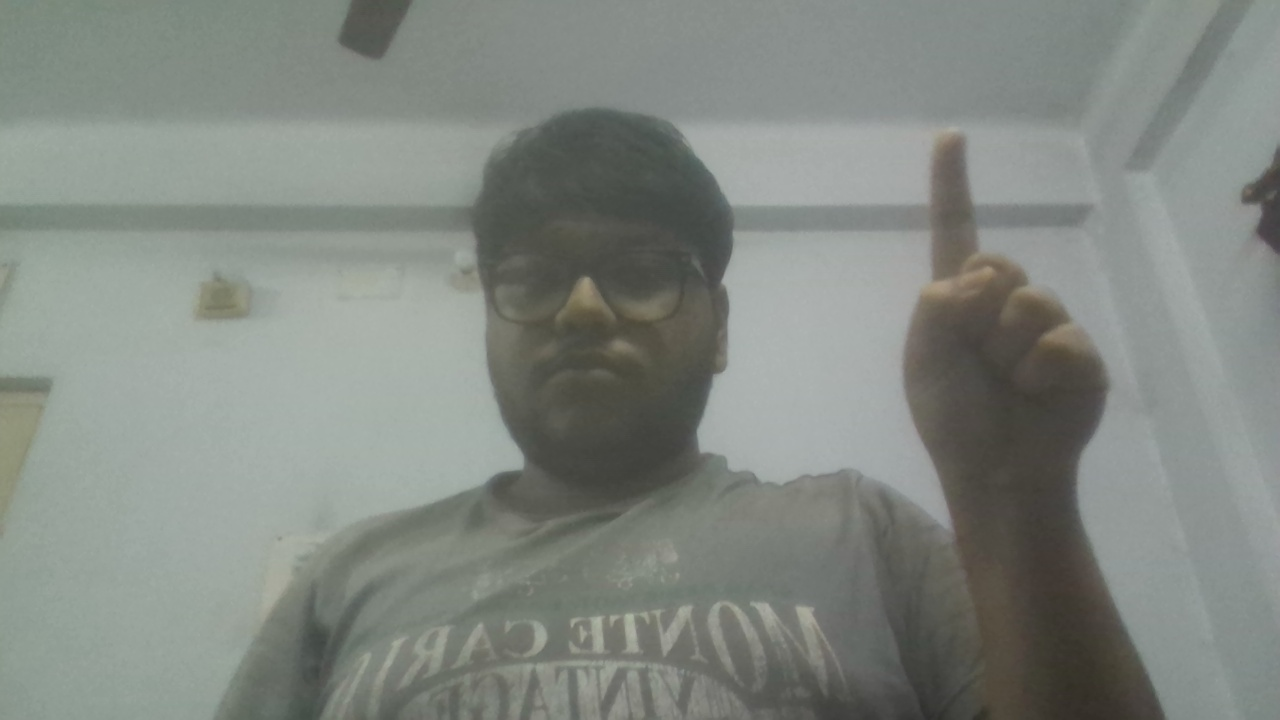Gesture1: (891, 121, 1119, 491)
